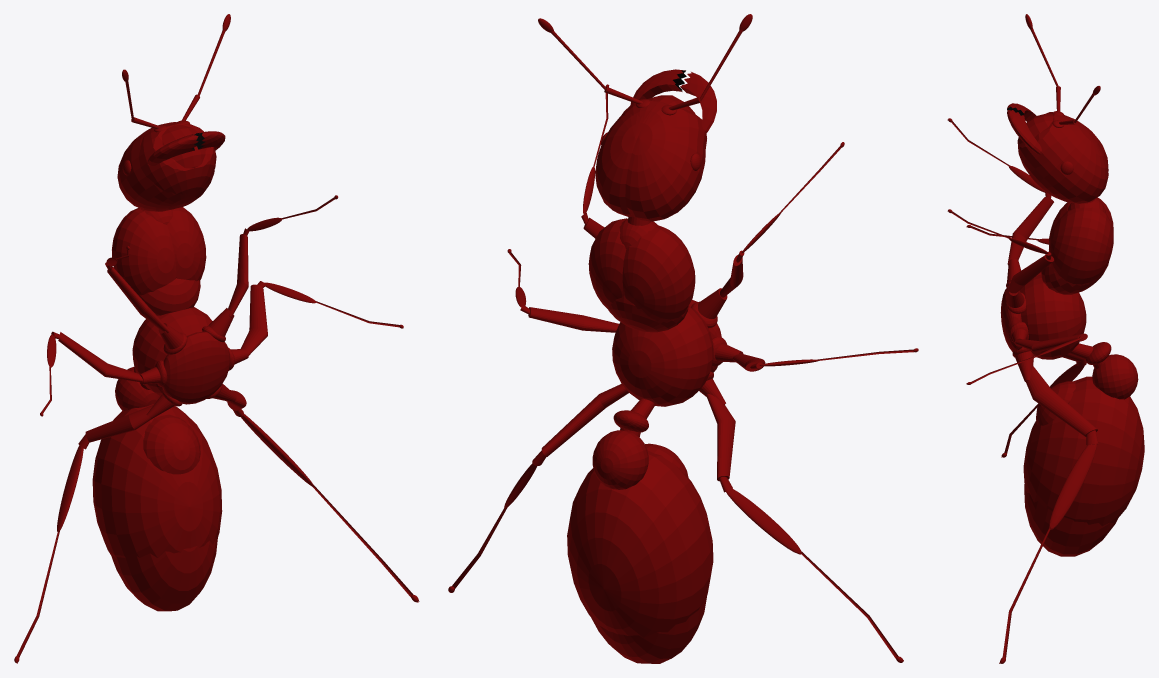
Rendered from Ants.fbx.
3 renders of one model, left to right at view 1: azimuth 30°, elevation 25°; view 2: azimuth 150°, elevation 25°; view 3: azimuth 270°, elevation 25°, orthographic. The views are drawn at different scales.
Visible parts, largest first — view 1: Ant; view 2: Ant; view 3: Ant.
Part boxes in pixels (x1,y1,x2,y2): Ant: [14, 14, 419, 663]; Ant: [448, 14, 918, 663]; Ant: [947, 14, 1144, 663].
Size of the model in its own units: 9.62 by 4.57 by 13.47.
